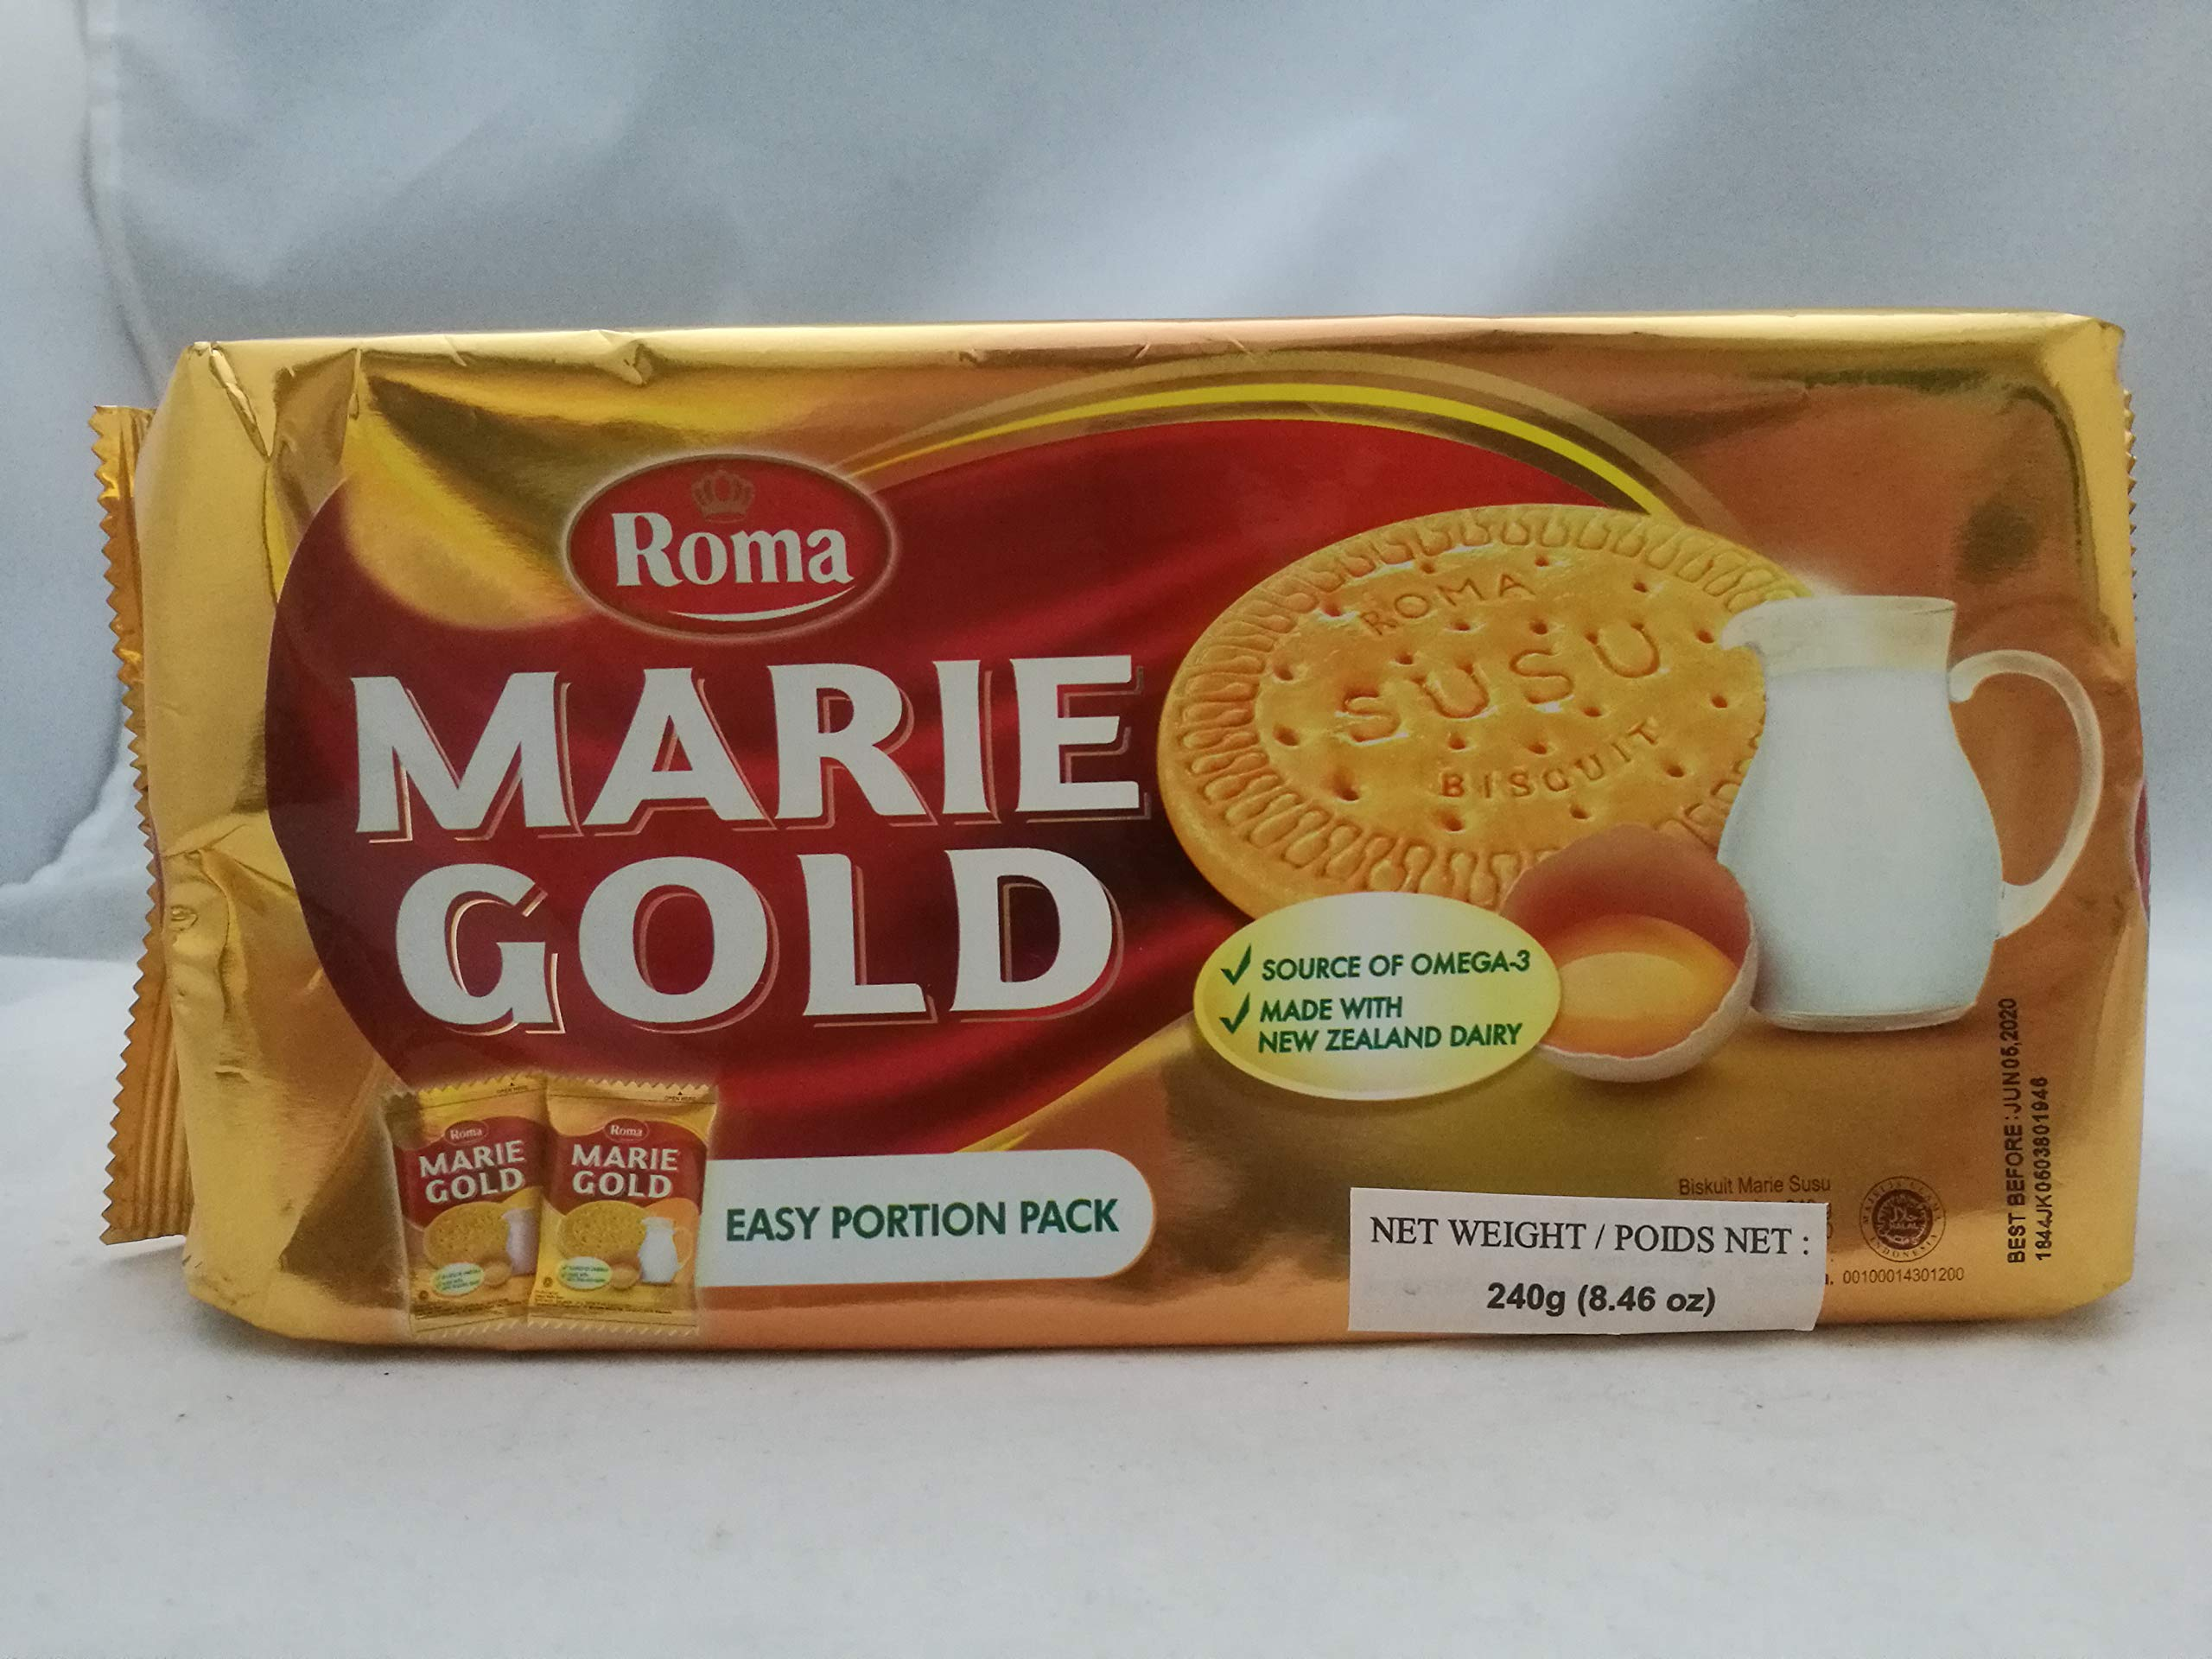Roma Marie Gold (240g): (71, 317, 2172, 1373)
